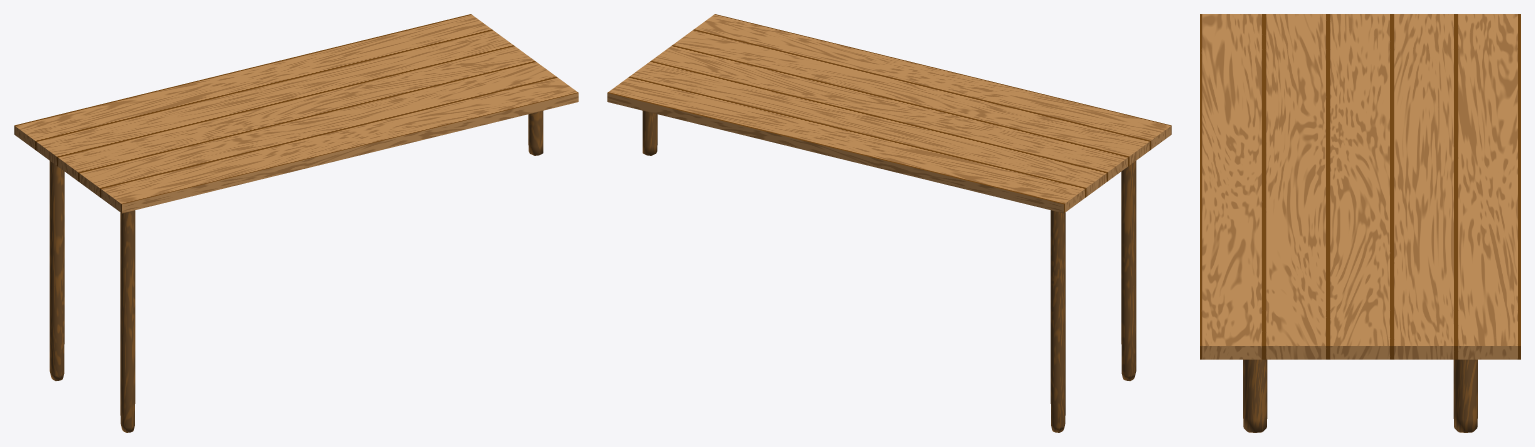
The model's file is Beachbridge1.glb.
3 views of the same model, side by side, from view 1: azimuth 30°, elevation 25°; view 2: azimuth 150°, elevation 25°; view 3: azimuth 270°, elevation 25° (orthographic). The views are drawn at different scales.
Parts seen in each view (by area): view 1: floor, legs; view 2: floor, legs; view 3: floor, legs.
Part boxes in pixels (left/top/right/bottom): floor: left=14, top=14, right=578, bottom=213; legs: left=49, top=111, right=543, bottom=432; floor: left=607, top=14, right=1171, bottom=213; legs: left=642, top=111, right=1136, bottom=432; floor: left=1200, top=14, right=1520, bottom=359; legs: left=1243, top=359, right=1477, bottom=432.
Size of the model in its own units: 16.17 by 8.31 by 6.61.
2 materials, 2 textured.
